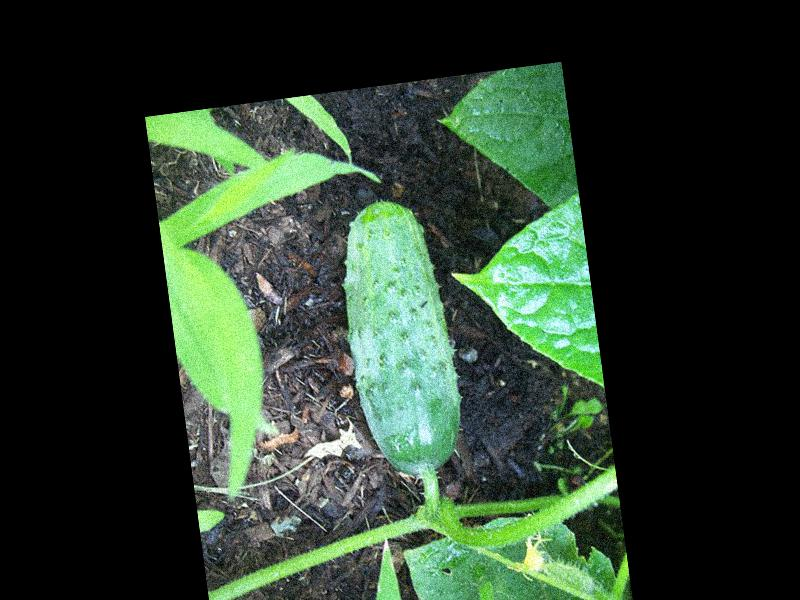Cucumber: (330, 191, 469, 481)
